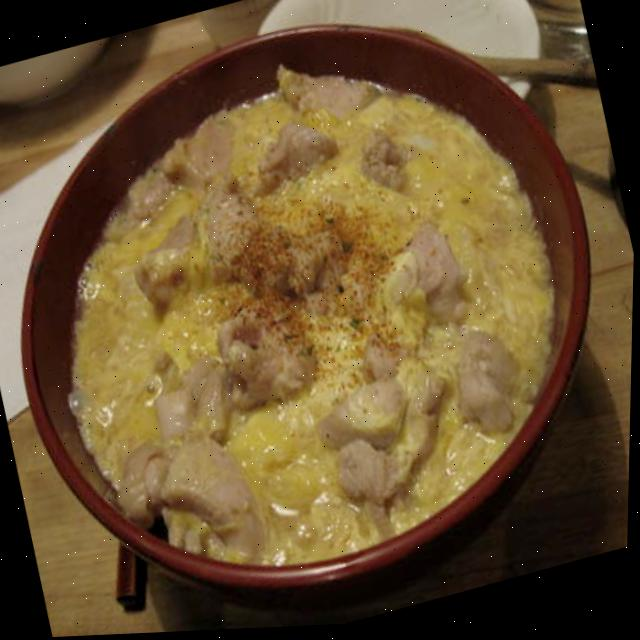米饭主食: (0, 0, 622, 608)
